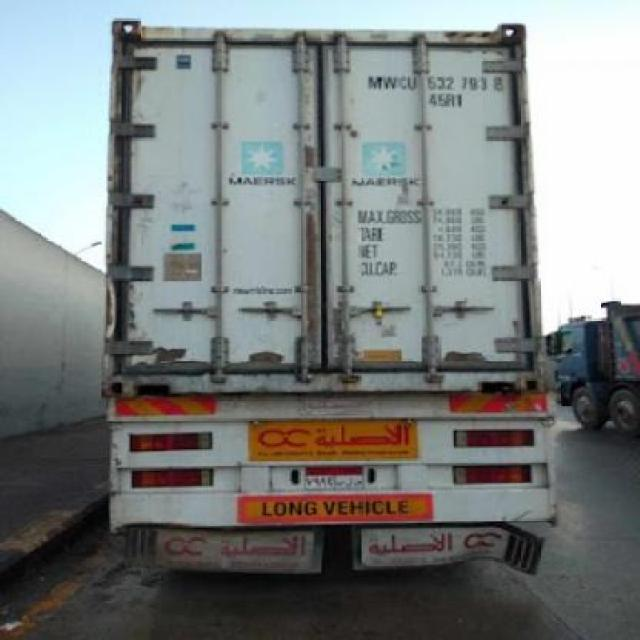ISO: (425, 94, 472, 110)
container_number: (366, 75, 504, 92)
